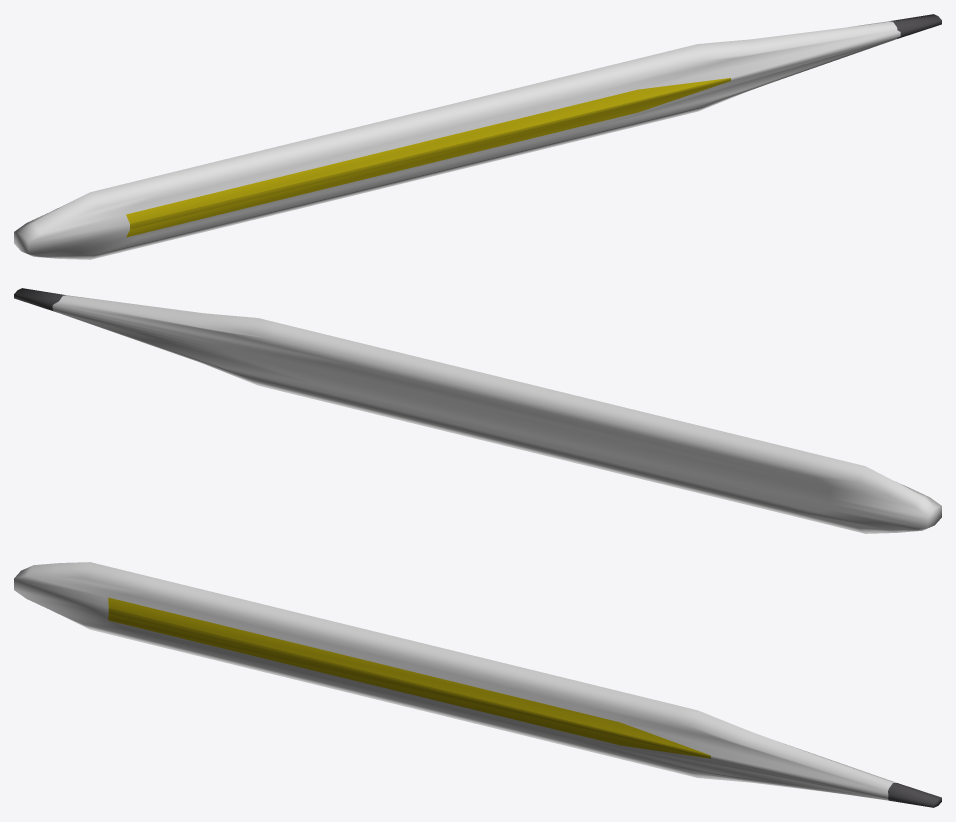
Rendered from Termometro.fbx.
The picture shows the model from 3 angles, top to bottom: view 1: azimuth 30°, elevation 25°; view 2: azimuth 150°, elevation 25°; view 3: azimuth 330°, elevation 25°; orthographic projection.
Visible parts, largest first — view 1: Termometro; view 2: Termometro; view 3: Termometro.
Boxes of the visible parts, x1,y1,x2,y2 form: Termometro: (14, 14, 941, 259); Termometro: (14, 288, 941, 533); Termometro: (14, 562, 941, 807).
Size of the model in its own units: 268 by 18.92 by 9.04.
